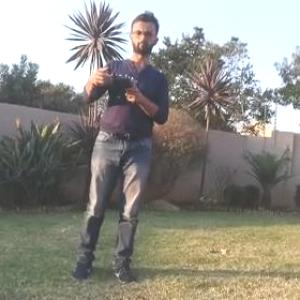follow: (62, 5, 175, 290)
